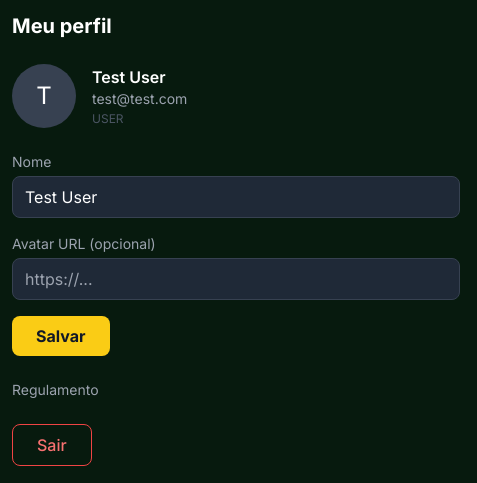
Test: desabilita o botão e exibe "Saindo..." durante o logout
The image size is (477, 483).
What coordinates should you click on to do the following:
click the button "Sair"
I would click on:
 (52, 445)
Its box is [12,424,92,466].
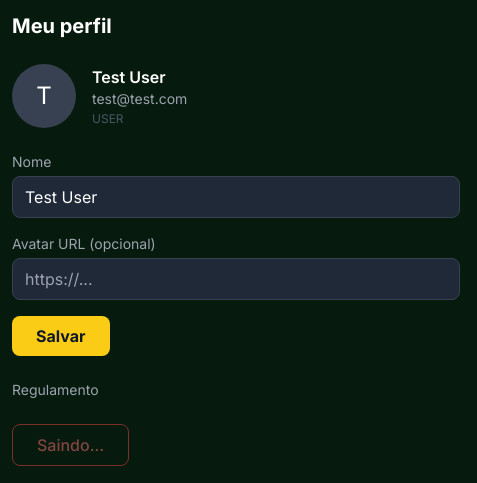
Check: the button "Saindo..." is disabled, box [12,424,129,466]
